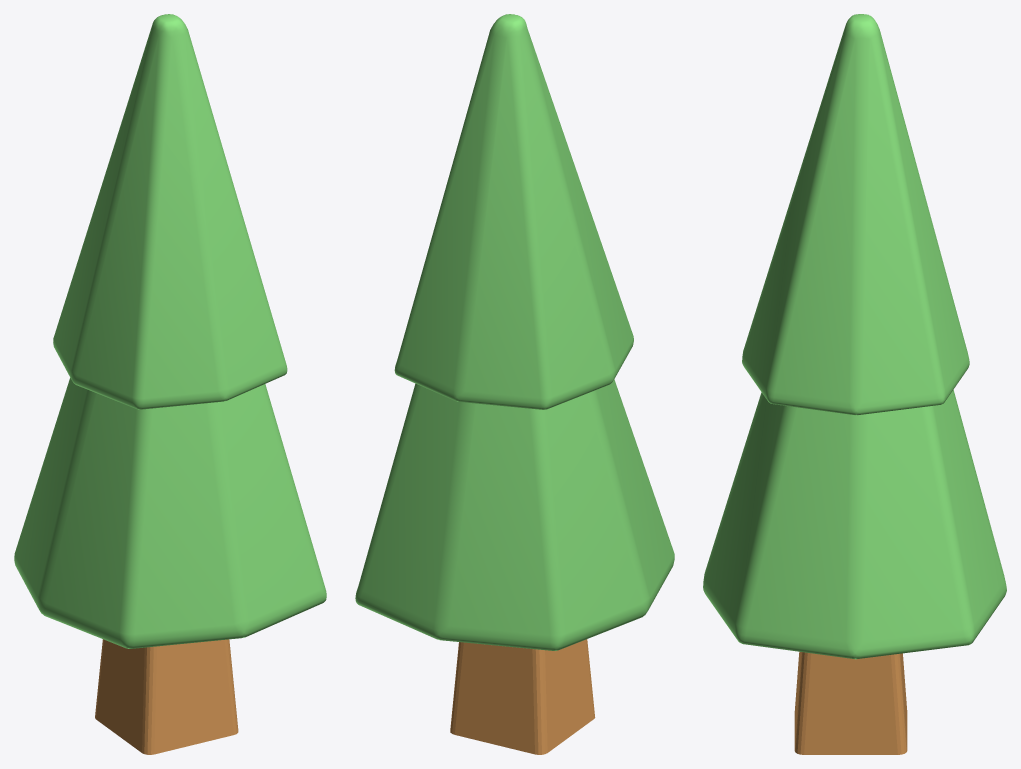
The model's file is Tanne2.fbx.
3 views of the same model, side by side, from view 1: azimuth 30°, elevation 25°; view 2: azimuth 150°, elevation 25°; view 3: azimuth 270°, elevation 25° (orthographic). The views are drawn at different scales.
Parts seen in each view (by area): view 1: SM_Tanne_002; view 2: SM_Tanne_002; view 3: SM_Tanne_002.
Boxes of the visible parts, x1,y1,x2,y2 form: SM_Tanne_002: [14, 14, 326, 754]; SM_Tanne_002: [355, 14, 674, 754]; SM_Tanne_002: [703, 14, 1006, 754].
Size of the model in its own units: 324 by 834 by 320.
